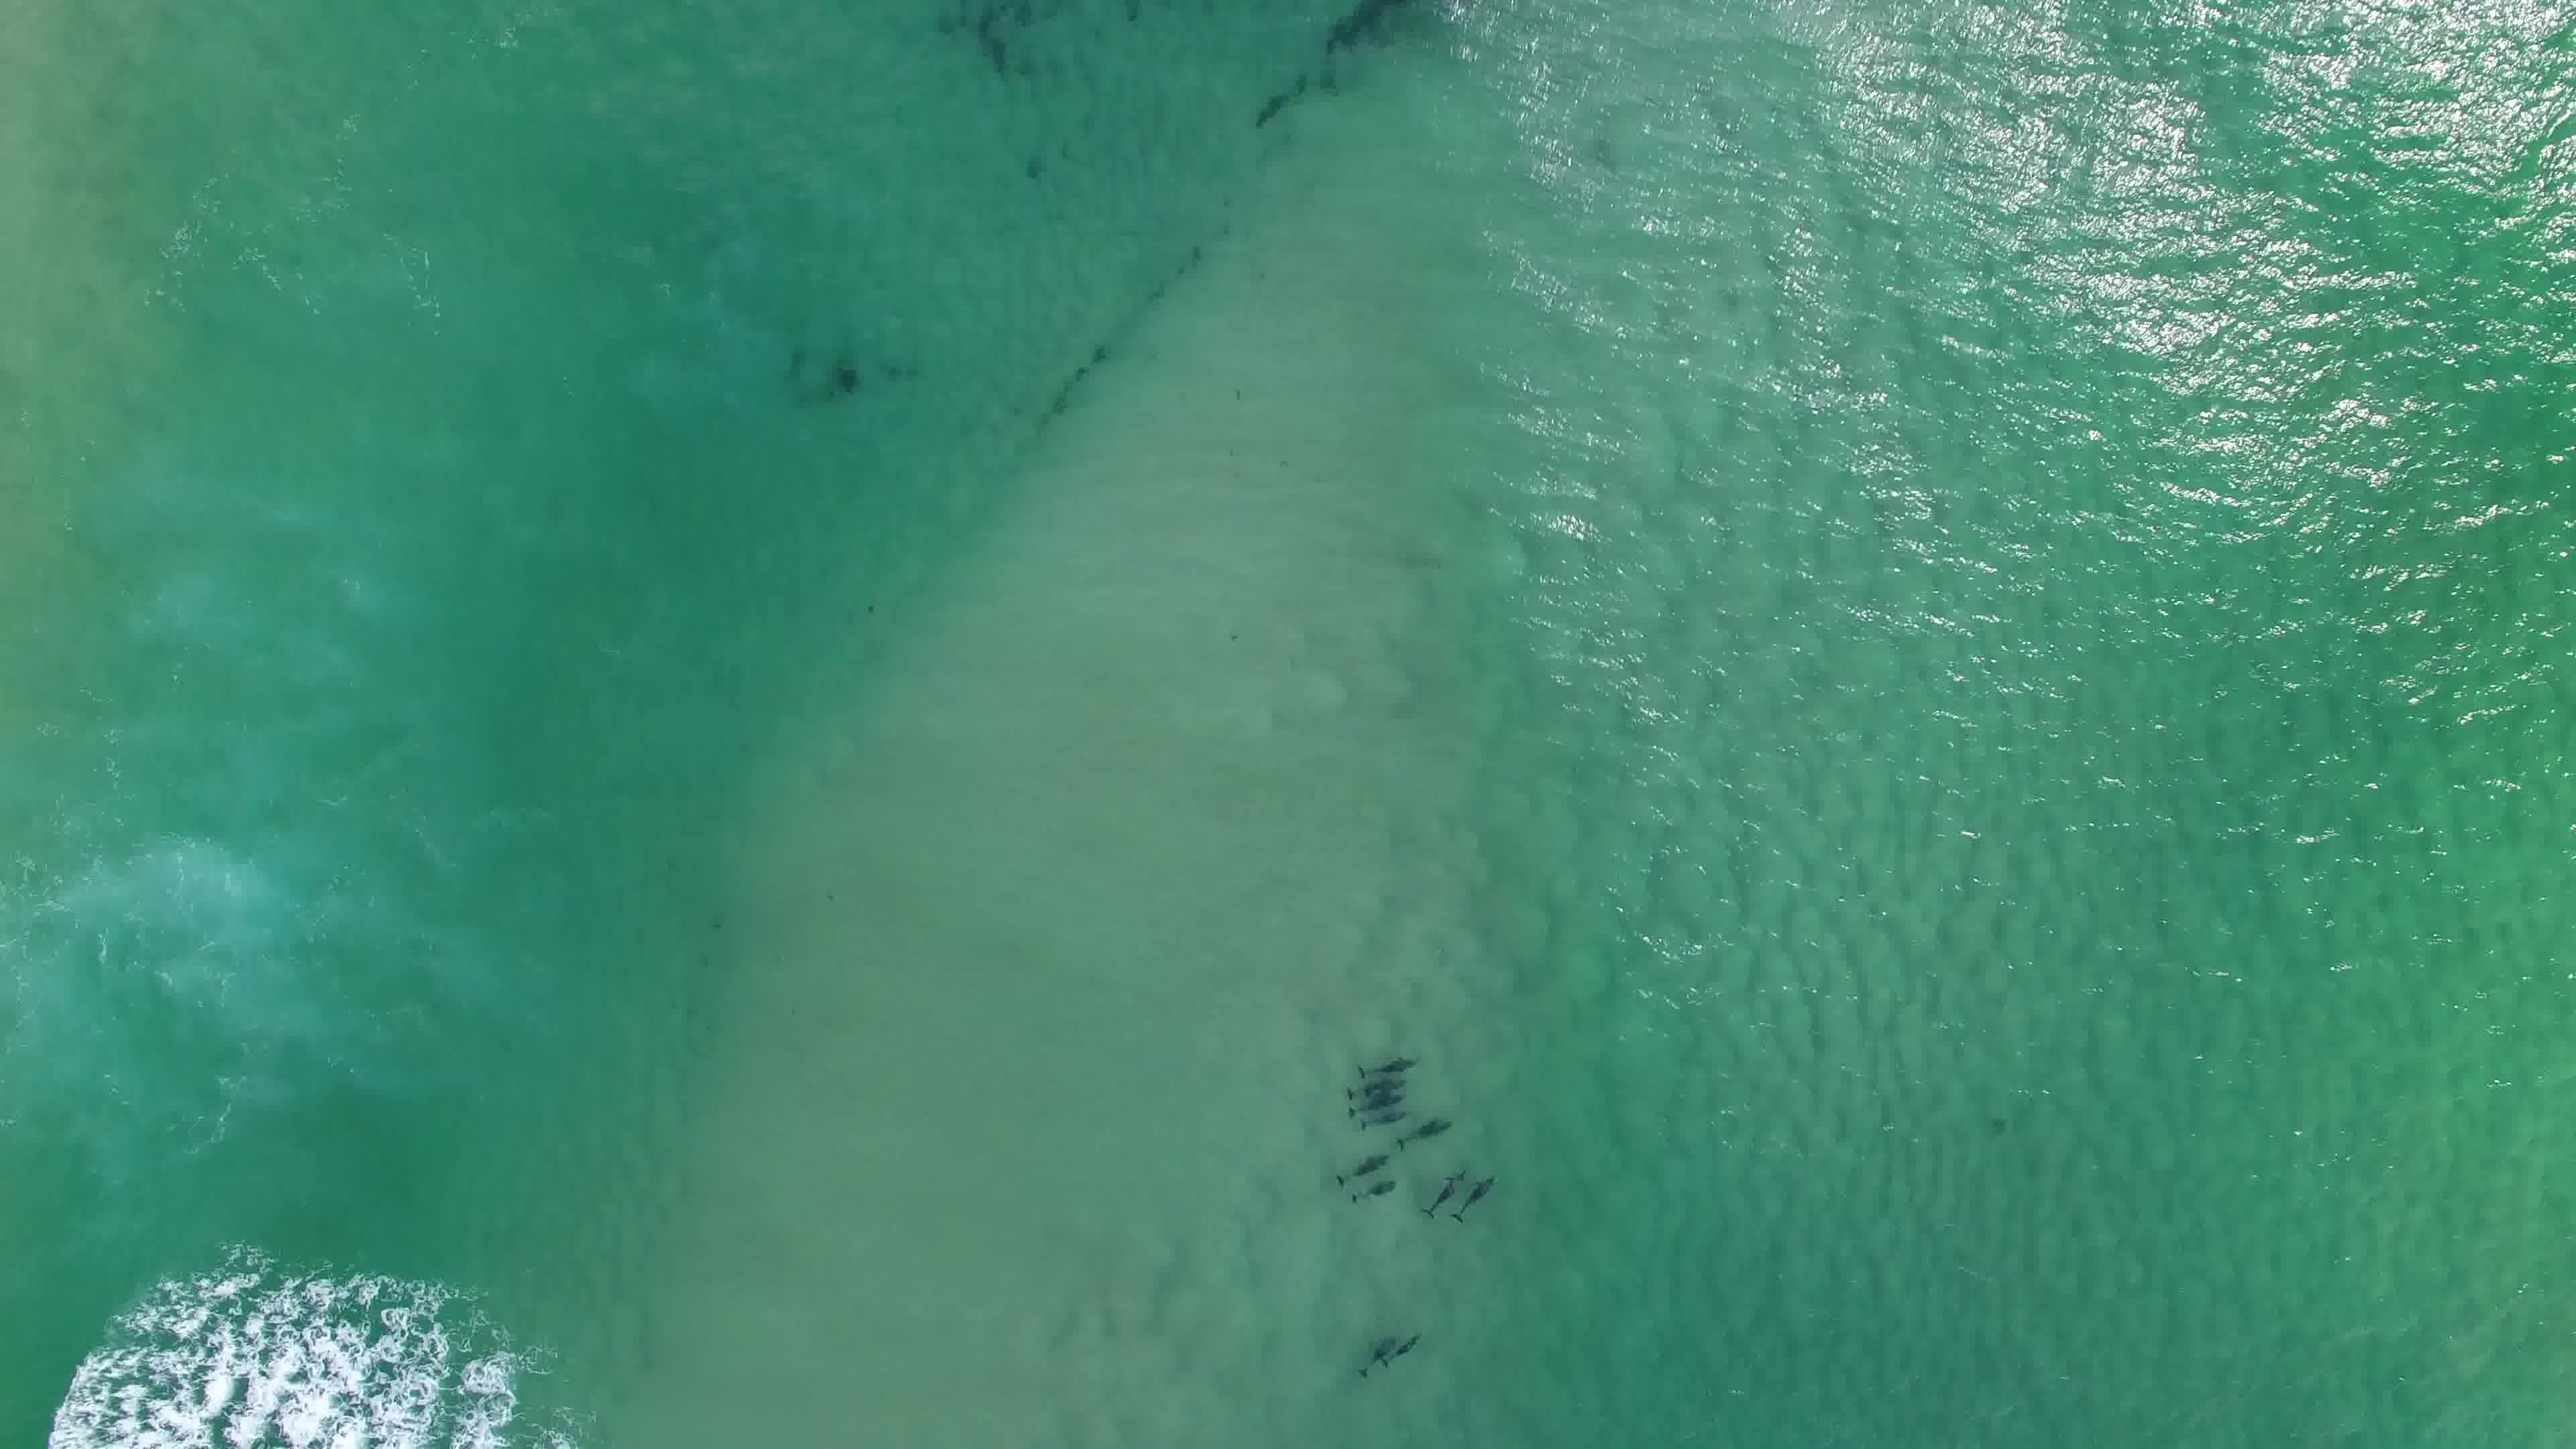dolphin: (1444, 1164, 1500, 1235), (1346, 1320, 1405, 1385), (1369, 1316, 1426, 1375), (1410, 1166, 1465, 1212), (1320, 1146, 1398, 1175), (1391, 1113, 1458, 1143), (1357, 1051, 1430, 1077), (1343, 1070, 1410, 1093), (1345, 1108, 1414, 1129), (1345, 1088, 1410, 1109), (1348, 1177, 1403, 1201)
